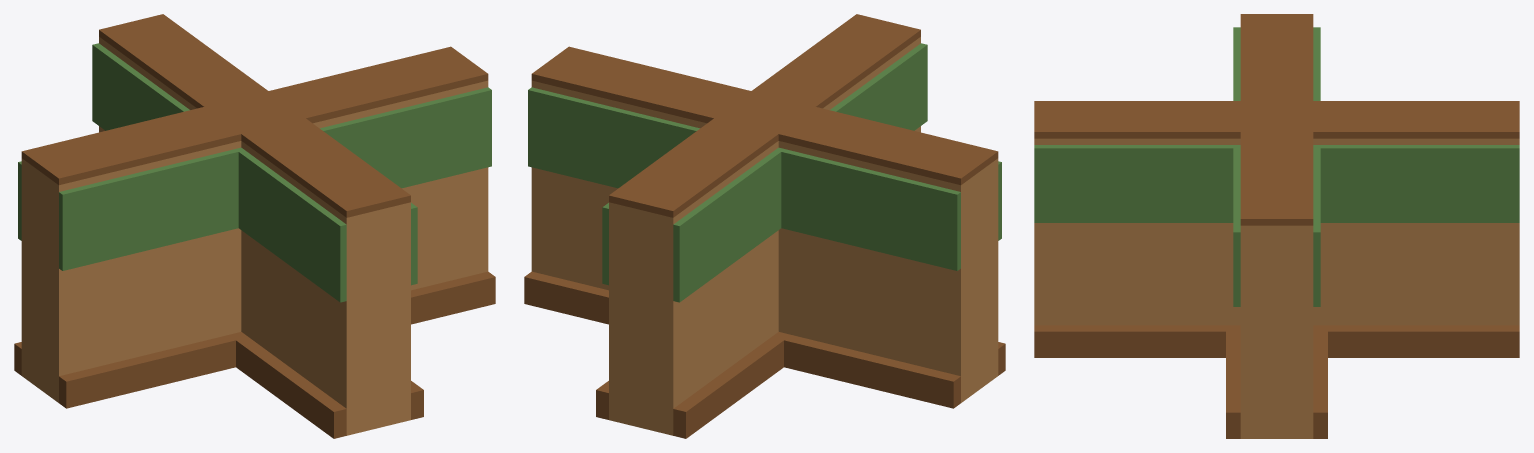
Rendered from partition-cross.glb.
3 renders of one model, left to right at view 1: azimuth 30°, elevation 25°; view 2: azimuth 150°, elevation 25°; view 3: azimuth 270°, elevation 25°, orthographic. The views are drawn at different scales.
Visible parts, largest first — view 1: partition-cross; view 2: partition-cross; view 3: partition-cross.
Part boxes in pixels (bbox=[...]): partition-cross: bbox=[14, 14, 495, 438]; partition-cross: bbox=[524, 14, 1005, 438]; partition-cross: bbox=[1034, 14, 1519, 438].
Bounding box in the file's own units: 1 × 0.5 × 1.
Materials: 1 (1 with a texture image).
